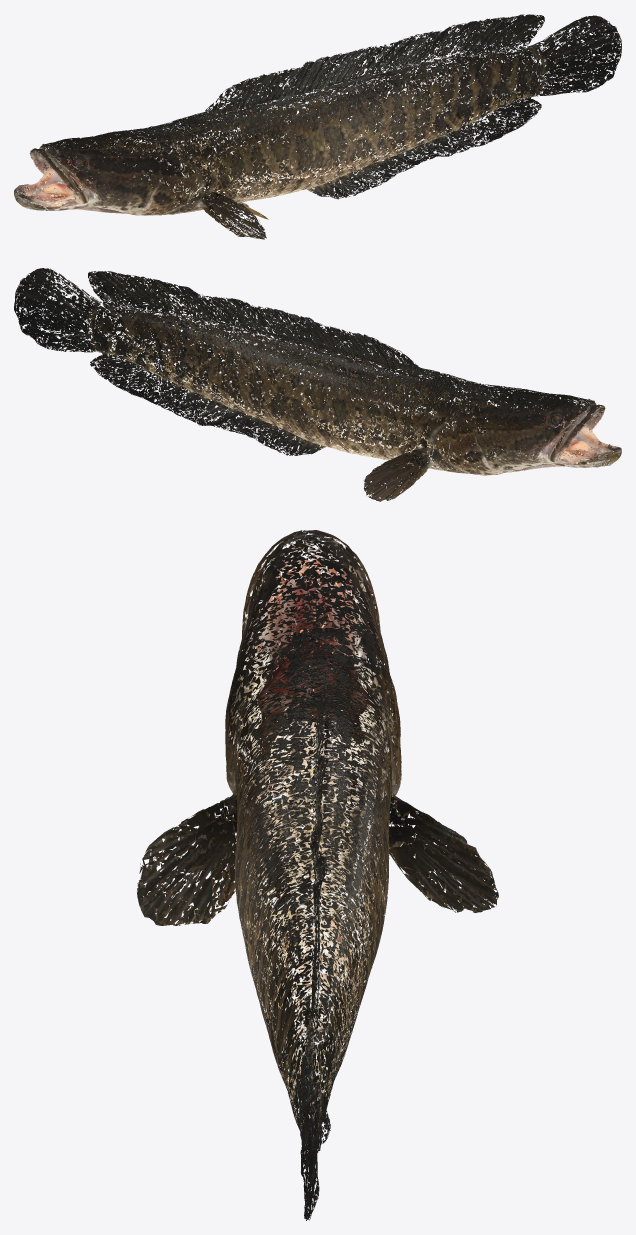
File: snakehead.glb
3 views of the same model, one above another, from view 1: azimuth 30°, elevation 25°; view 2: azimuth 150°, elevation 25°; view 3: azimuth 270°, elevation 25° (orthographic). The views are drawn at different scales.
Visible parts, largest first — view 1: Object_6, Object_12, Object_17; view 2: Object_6, Object_12, Object_17; view 3: Object_6, Object_12, Object_17.
Part boxes in pixels (x1,y1,x2,y2): Object_6: [15, 14, 619, 239]; Object_12: [18, 14, 621, 236]; Object_17: [14, 14, 621, 238]; Object_6: [15, 268, 619, 499]; Object_12: [14, 268, 621, 501]; Object_17: [14, 268, 621, 500]; Object_6: [137, 536, 496, 1220]; Object_12: [139, 530, 498, 1220]; Object_17: [137, 530, 497, 1220].
Size of the model in its own units: 16.39 by 3.76 by 4.26.
Materials: 3 (3 with a texture image).
